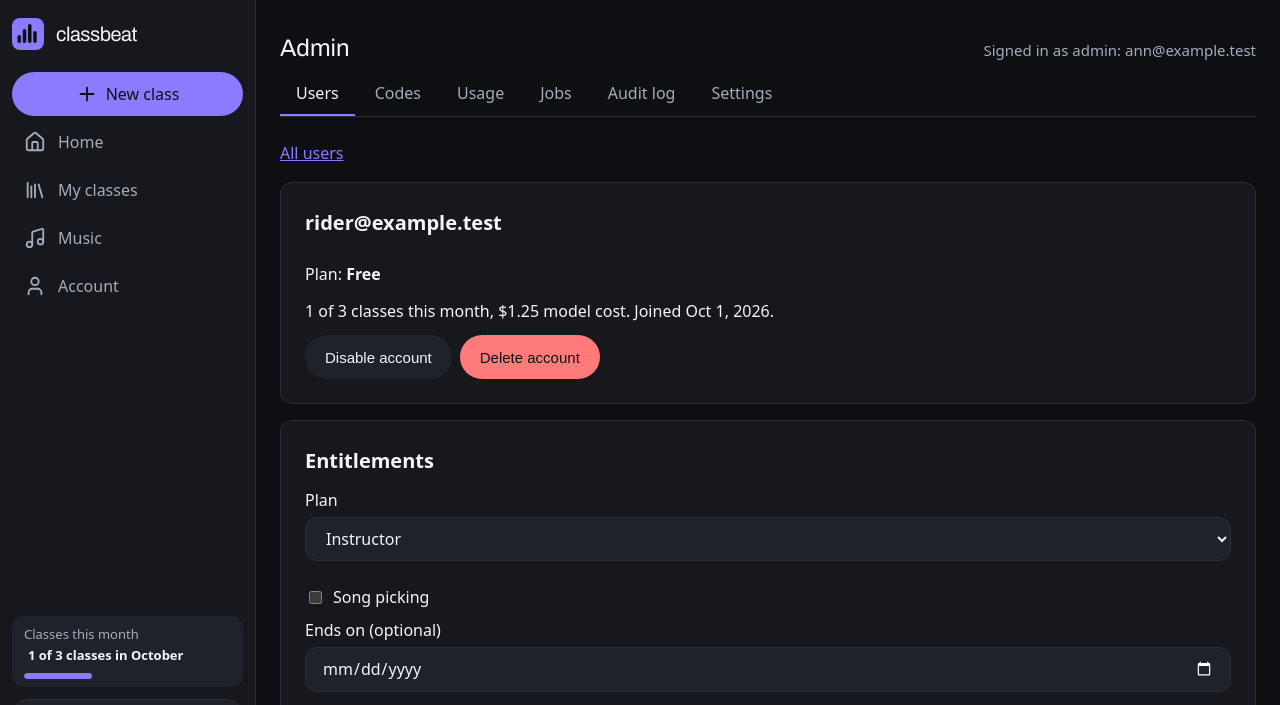
Test case: step-up › repeats only once: a second stepup_required is shown, not prompted again
Step 1. Click the button "Disable account" → x=378, y=357, box [305,335,452,379]
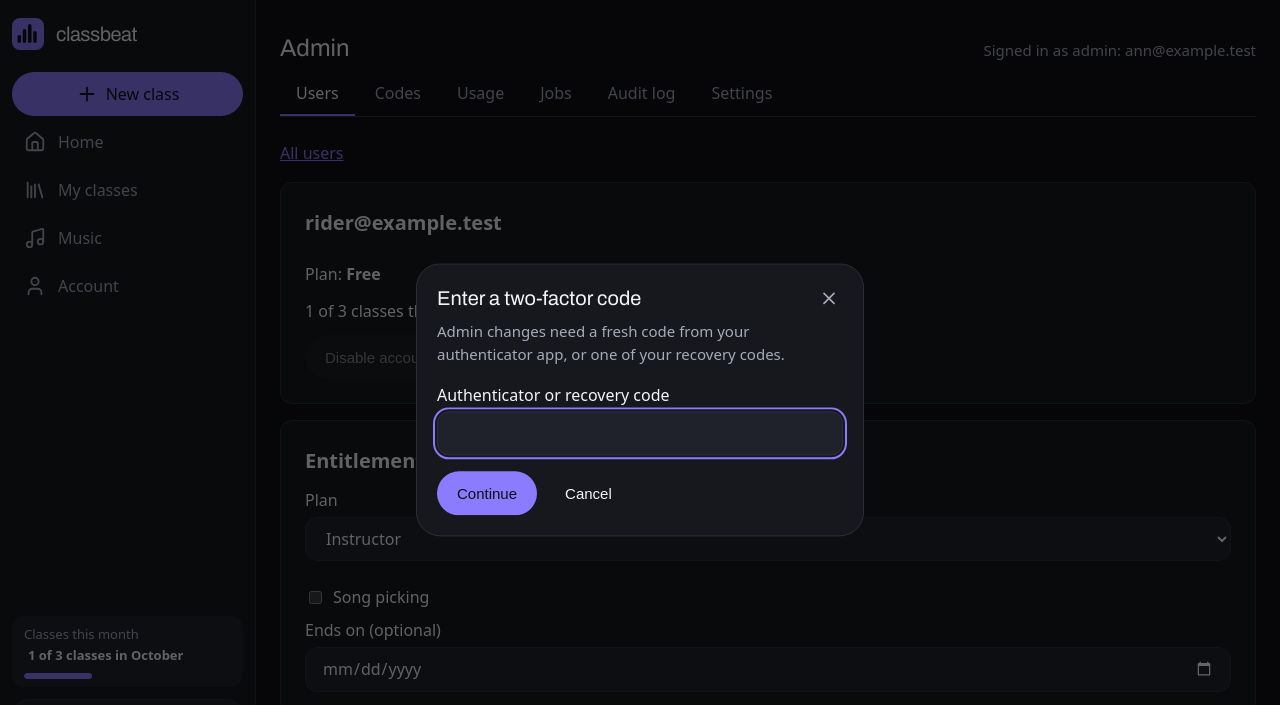
Step 2. Type "424242" into the field labelled "Authenticator or recovery code" → x=640, y=434, box [437,412,843,456]
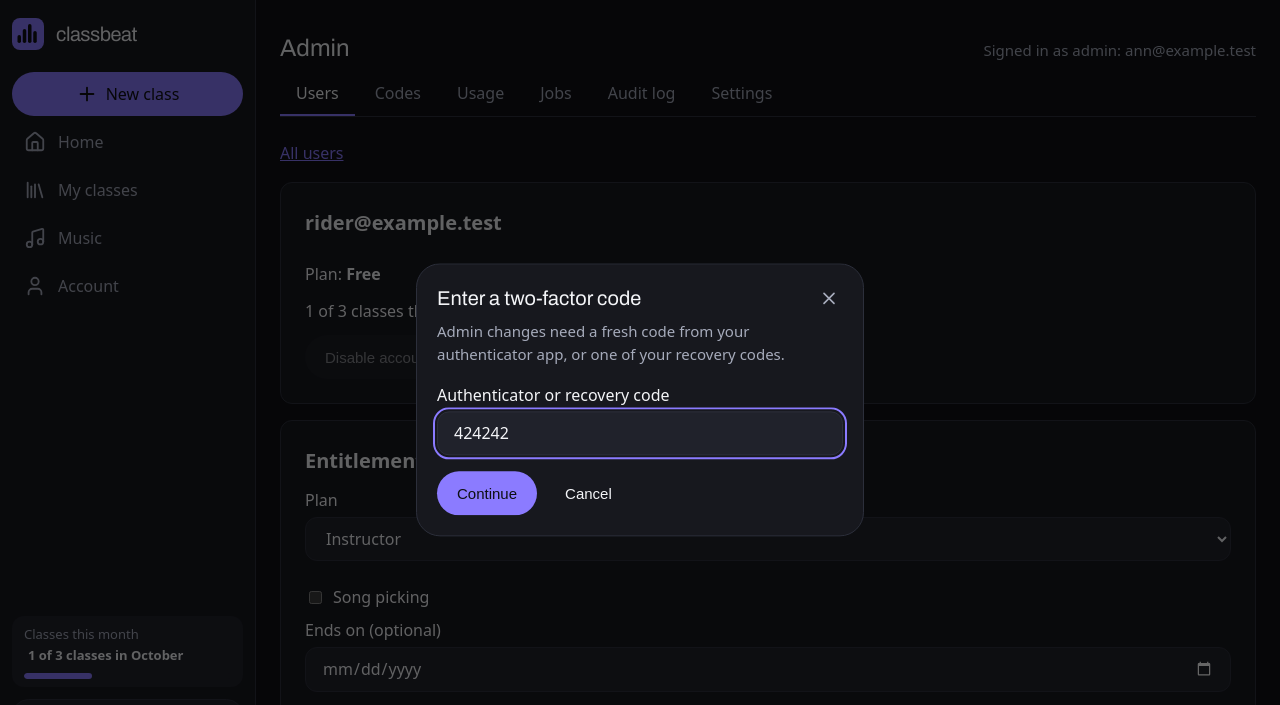
Step 3. Click the button "Continue" → x=487, y=494, box [437,472,537,516]
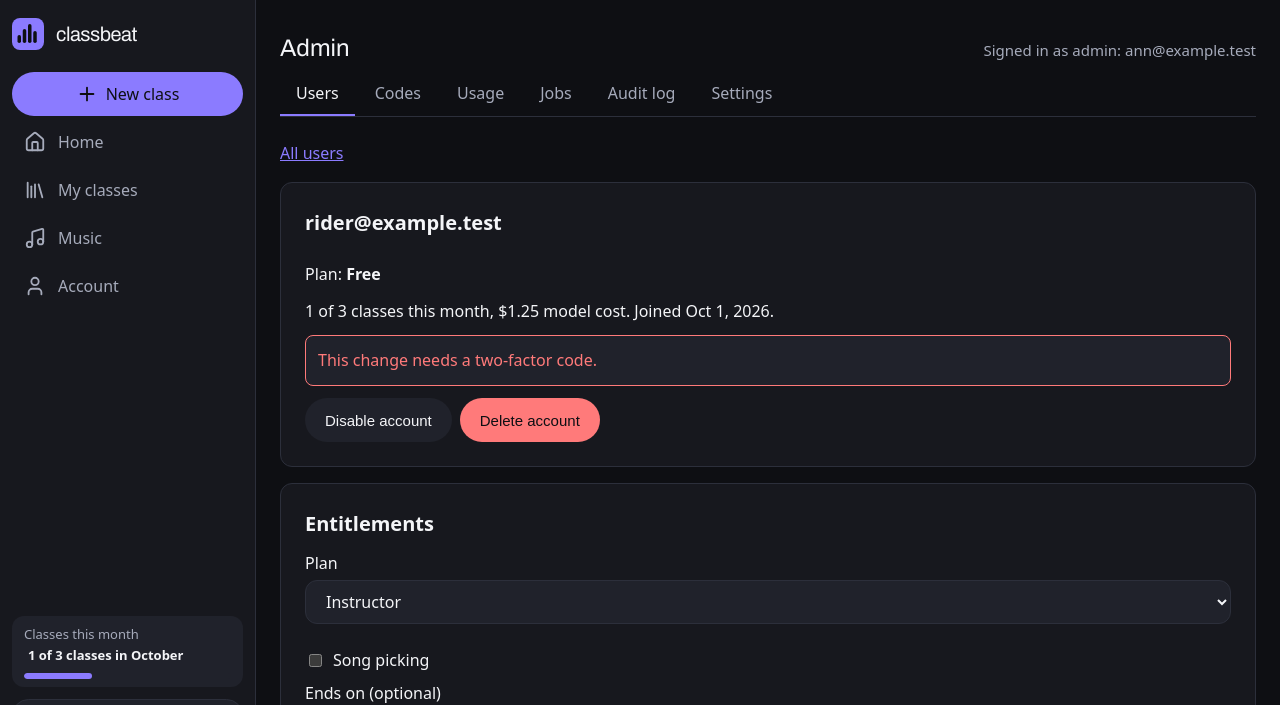
Expected: the text "This change needs a two-factor code." is shown, [305,335,1231,386]
Expected: the dialog is gone
